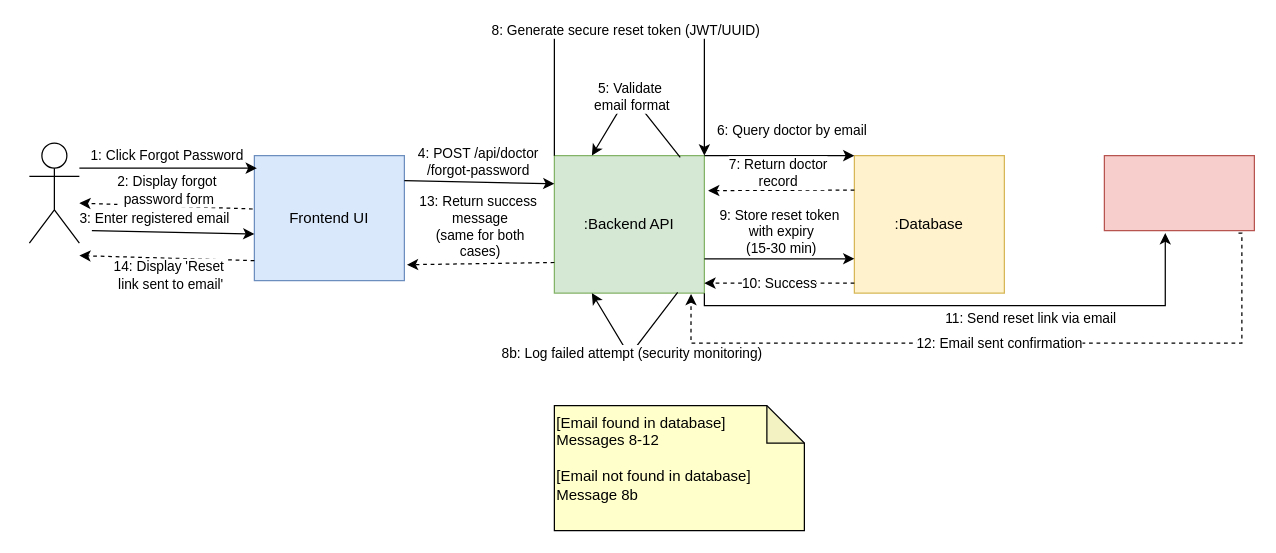
The diagram is 1276 pixels wide and 553 high, and some of its shapes have lost their labels. The box of each missing label's shape, as (x1, y1, x2, y2) in pixels:
:Email Service: (1103, 154, 1254, 231)
Customer: (28, 142, 79, 243)
